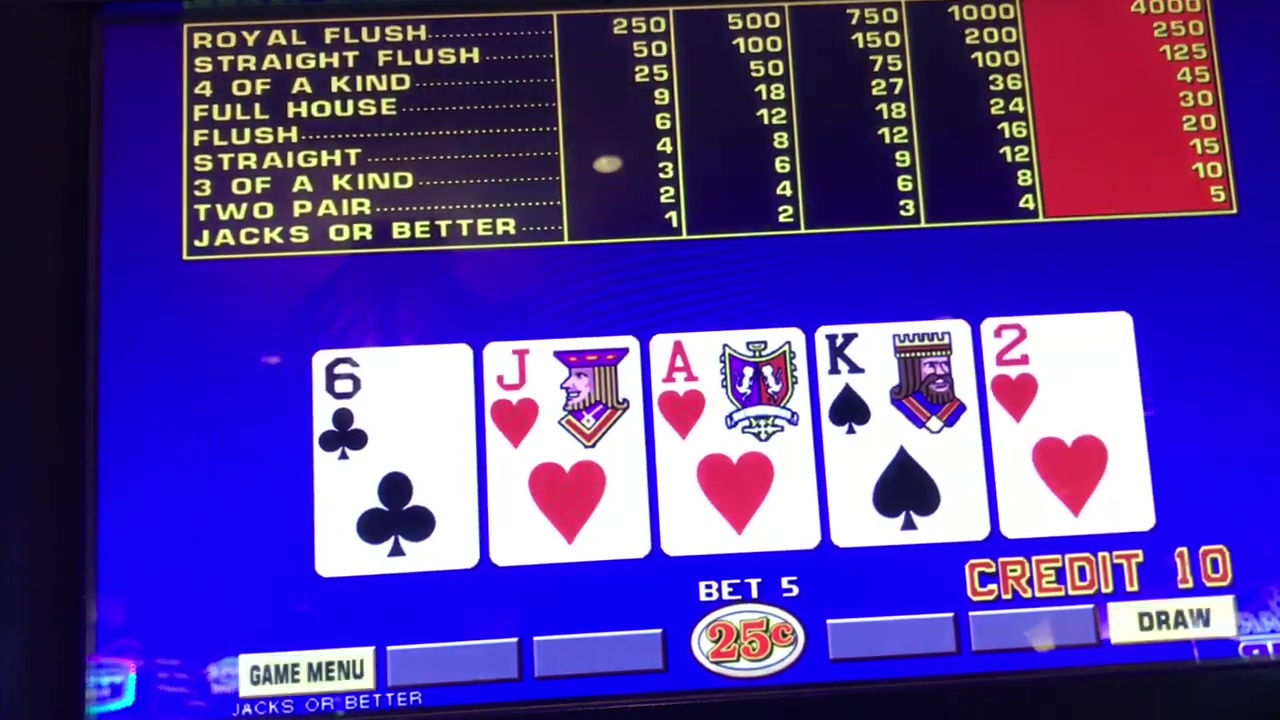C6: (318, 347, 471, 573)
H2: (996, 320, 1130, 532)
HA: (659, 336, 807, 547)
HJ: (487, 343, 641, 559)
SK: (826, 323, 973, 539)
